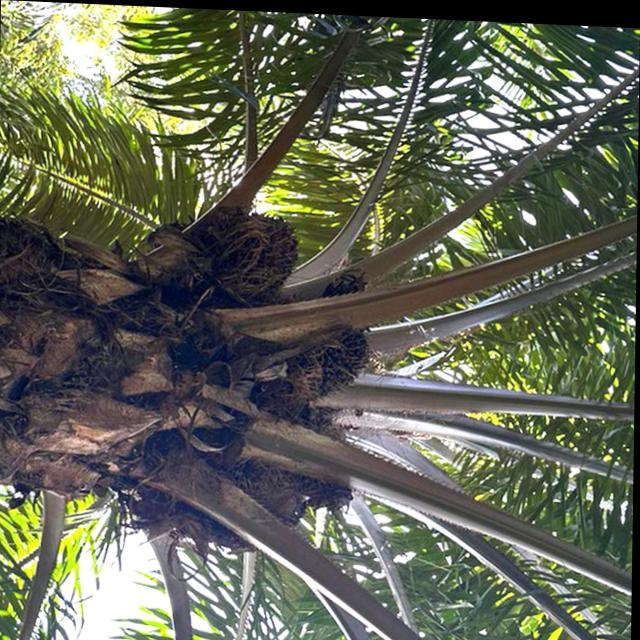unripe: (283, 310, 377, 401)
